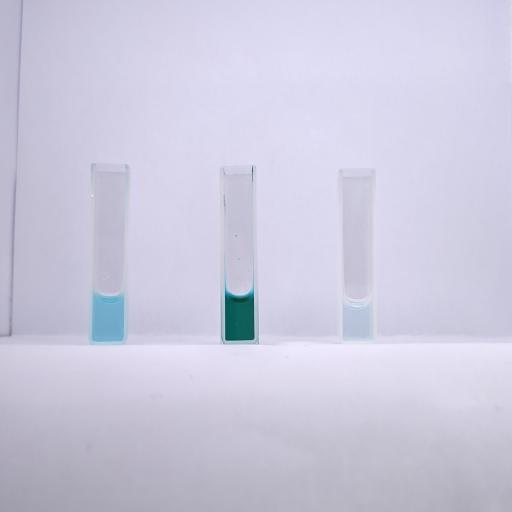cuvette: (87, 159, 132, 346), (218, 163, 262, 345), (336, 166, 378, 345)
liquid: (92, 291, 124, 342), (225, 291, 254, 340), (343, 298, 373, 340)
